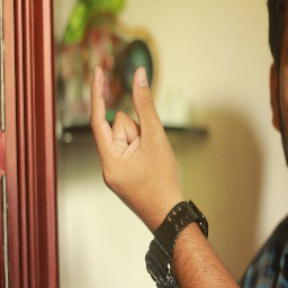U: (82, 55, 179, 201)
